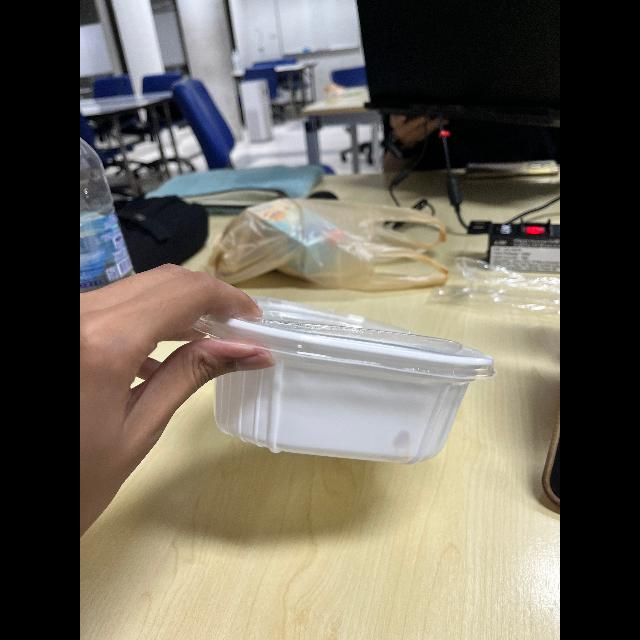plastic_box: (179, 278, 507, 468)
